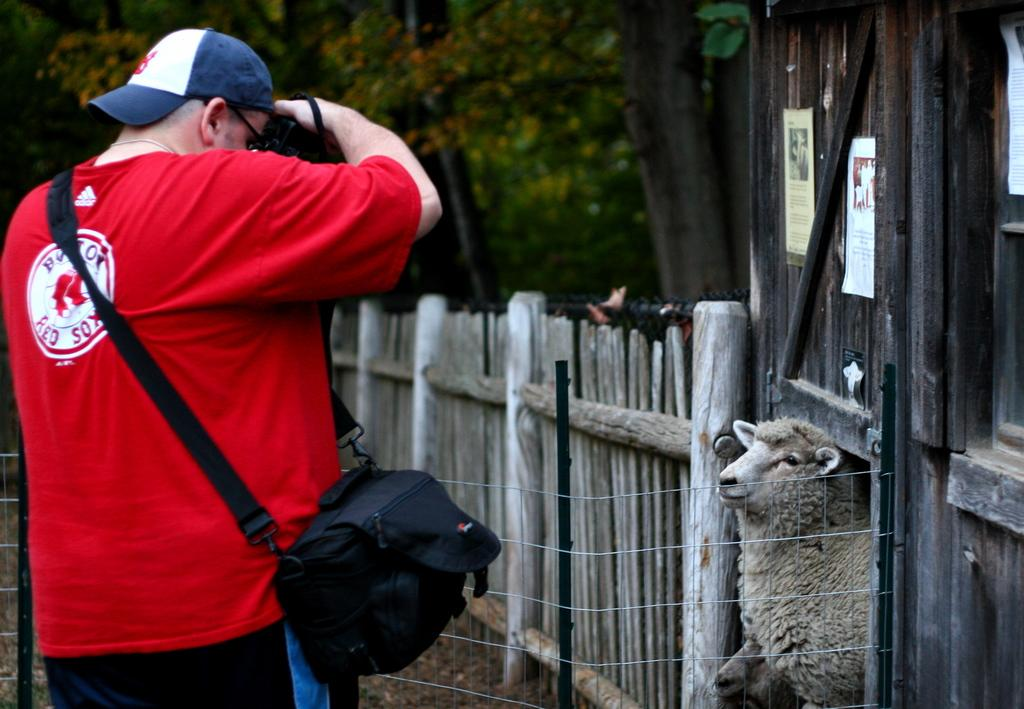Hat: (86, 24, 280, 128)
